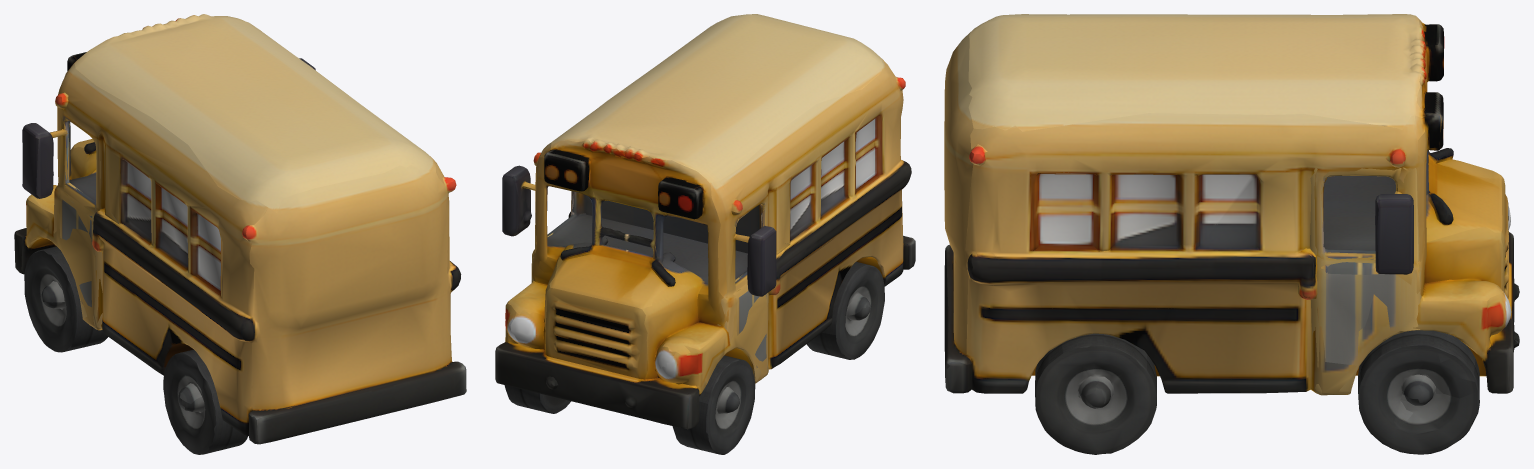
Rendered from Prop_SchoolBus_AI.glb.
3 renders of one model, left to right at view 1: azimuth 30°, elevation 25°; view 2: azimuth 150°, elevation 25°; view 3: azimuth 270°, elevation 25°, orthographic. The views are drawn at different scales.
Parts seen in each view (by area): view 1: Prop_SchoolBus_AI; view 2: Prop_SchoolBus_AI; view 3: Prop_SchoolBus_AI.
Part boxes in pixels (bbox=[...]): Prop_SchoolBus_AI: bbox=[14, 14, 466, 454]; Prop_SchoolBus_AI: bbox=[495, 14, 915, 454]; Prop_SchoolBus_AI: bbox=[944, 14, 1519, 454].
Bounding box in the file's own units: 3.15 × 3.2 × 4.8.
Materials: 3 (3 with a texture image).
